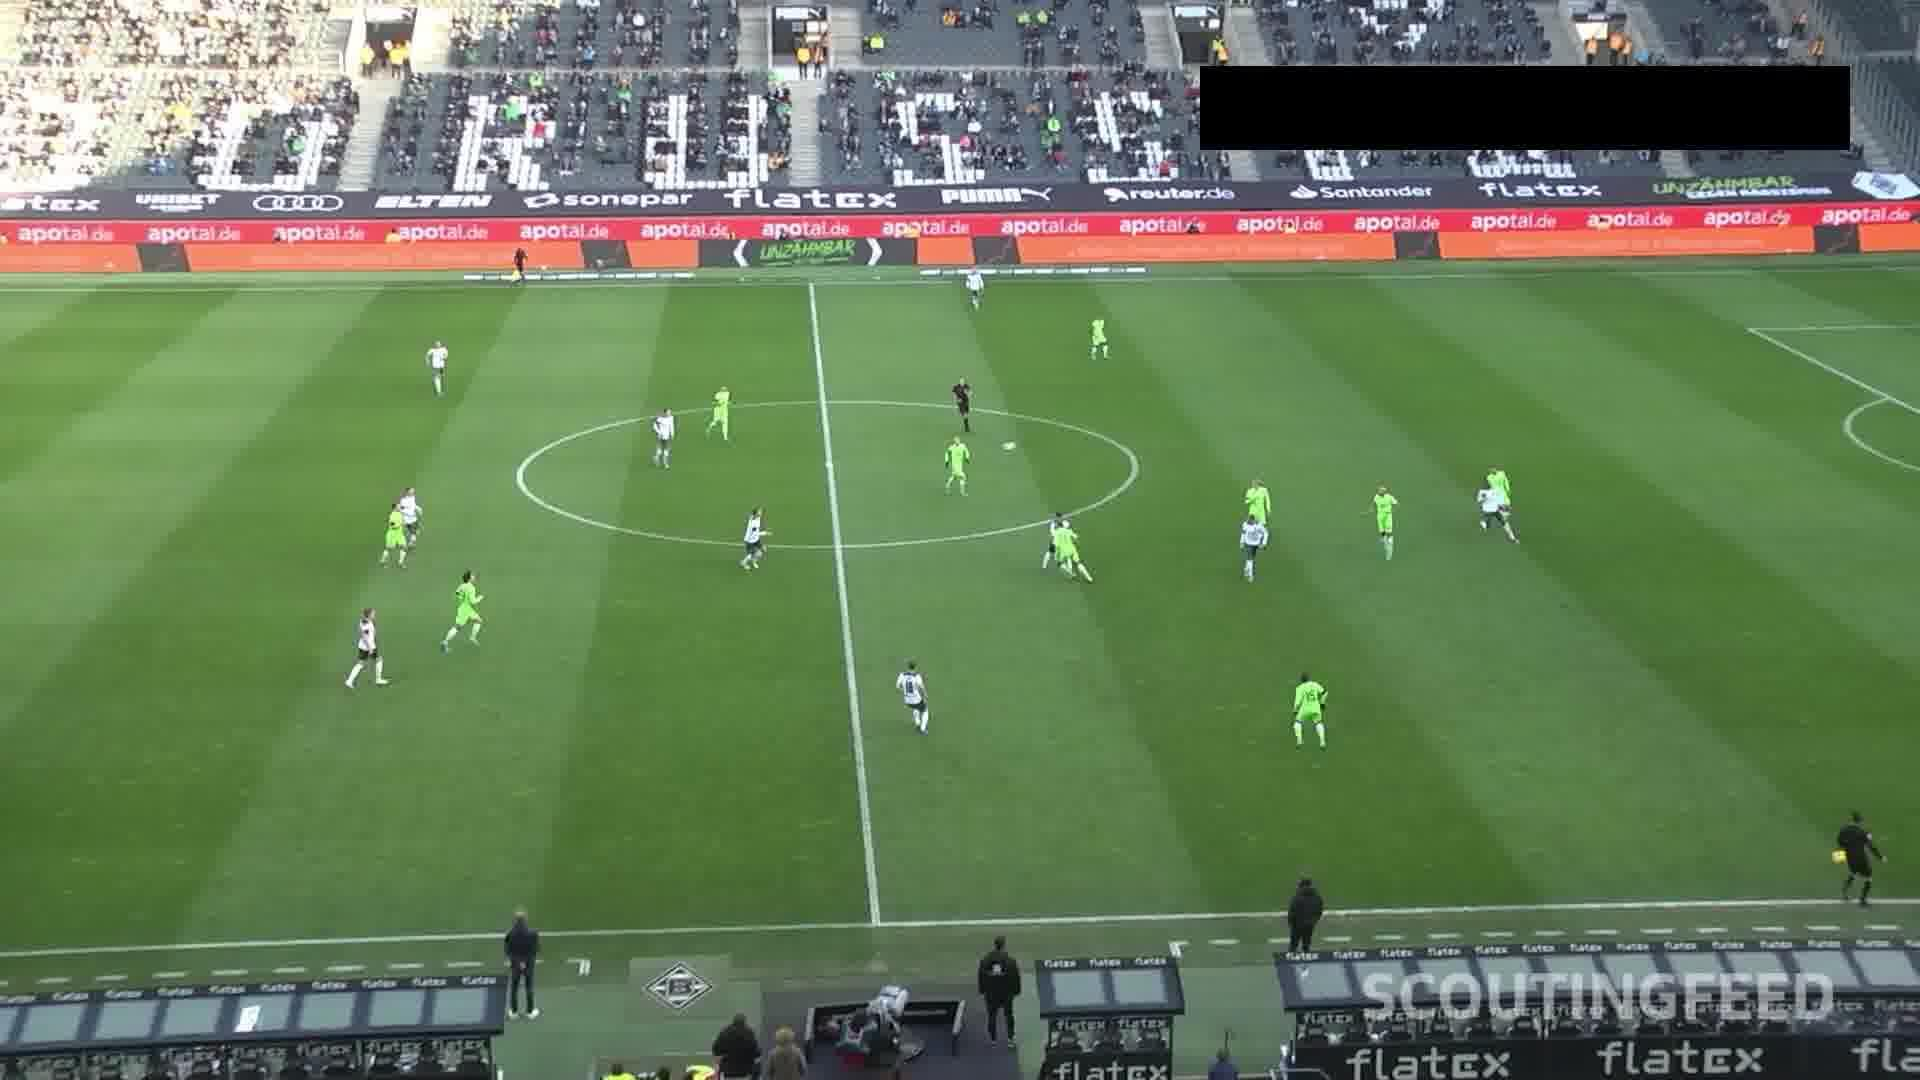football: (1001, 439, 1015, 454)
